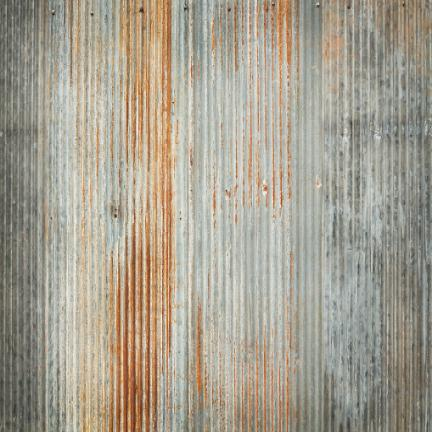besi_tidak_karat: (321, 0, 431, 430), (0, 0, 52, 430)
karat: (107, 0, 174, 430), (197, 296, 201, 407)
